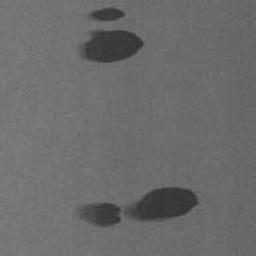Oil spot: (73, 186, 200, 229), (74, 28, 146, 65), (83, 5, 127, 23)
